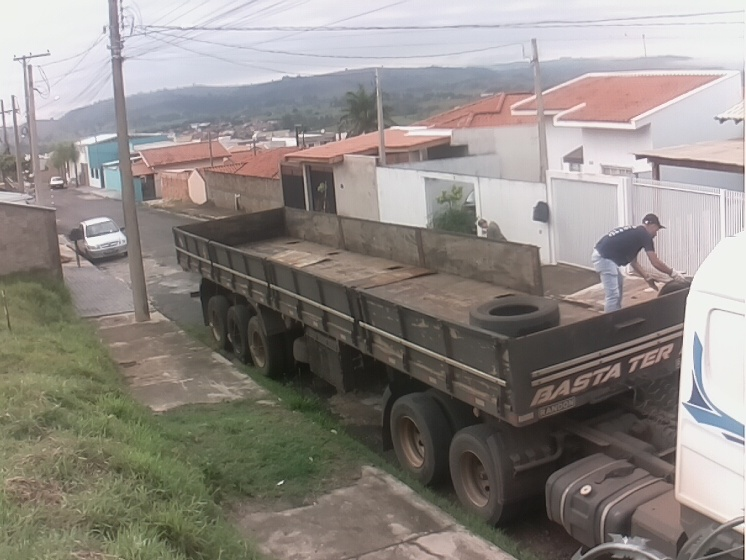person: (590, 212, 688, 318), (475, 218, 508, 245)
